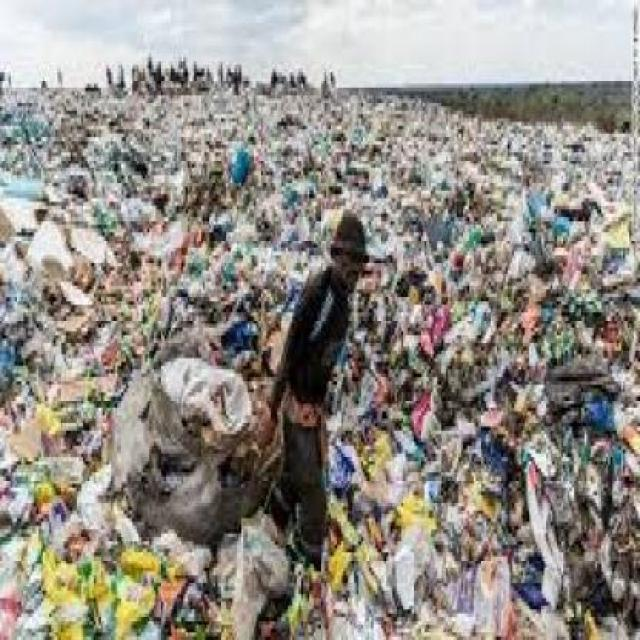garbage: (5, 96, 244, 633), (368, 183, 636, 614), (222, 99, 638, 206), (330, 442, 413, 614)
